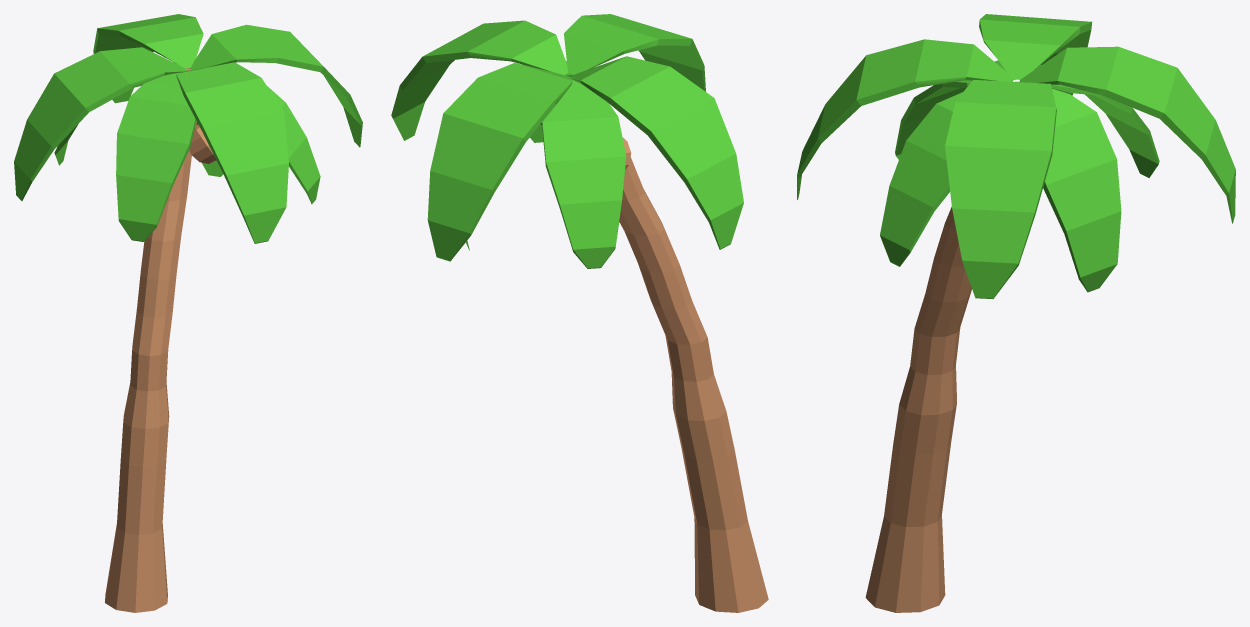
The model's file is Palmera4.fbx.
3 renders of one model, left to right at view 1: azimuth 30°, elevation 25°; view 2: azimuth 150°, elevation 25°; view 3: azimuth 270°, elevation 25°, orthographic. The views are drawn at different scales.
Visible parts, largest first — view 1: PALM1; view 2: PALM1; view 3: PALM1.
Boxes of the visible parts, x1,y1,x2,y2 form: PALM1: [14, 14, 362, 612]; PALM1: [391, 14, 768, 612]; PALM1: [797, 14, 1235, 612].
Size of the model in its own units: 2.48 by 3.69 by 2.48.
